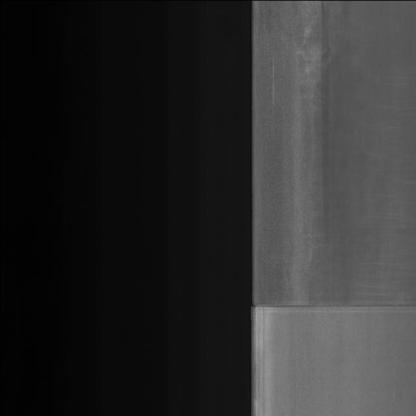welding_line: (235, 284, 416, 328)
